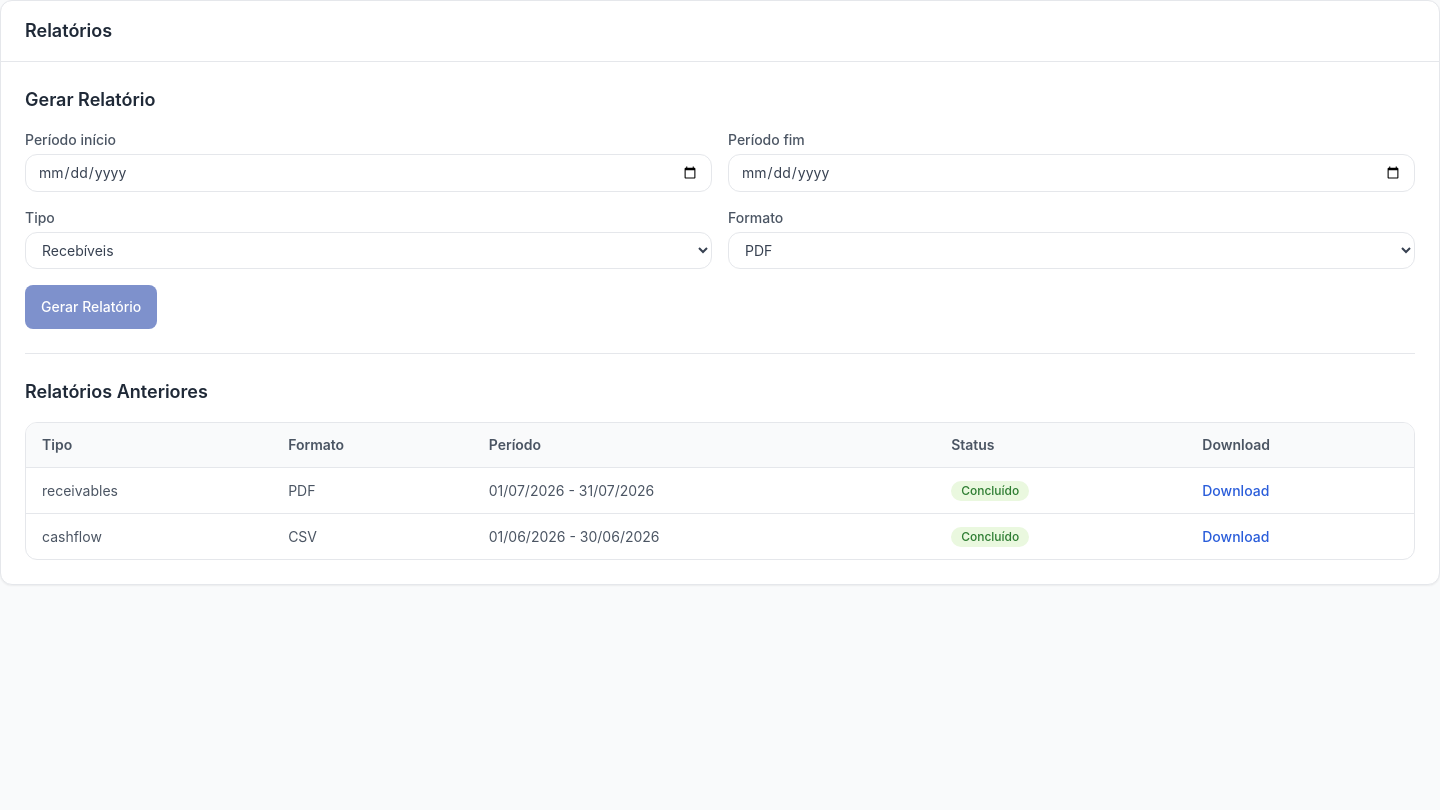
Test: ReportsPage › generates a report on submit
Expected: the button with test id "generate-report-btn" is shown, [25, 285, 157, 329]
Type "2026-07-01" into the date field with test id "report-period-start" at x=368, y=173, box [25, 154, 712, 192]
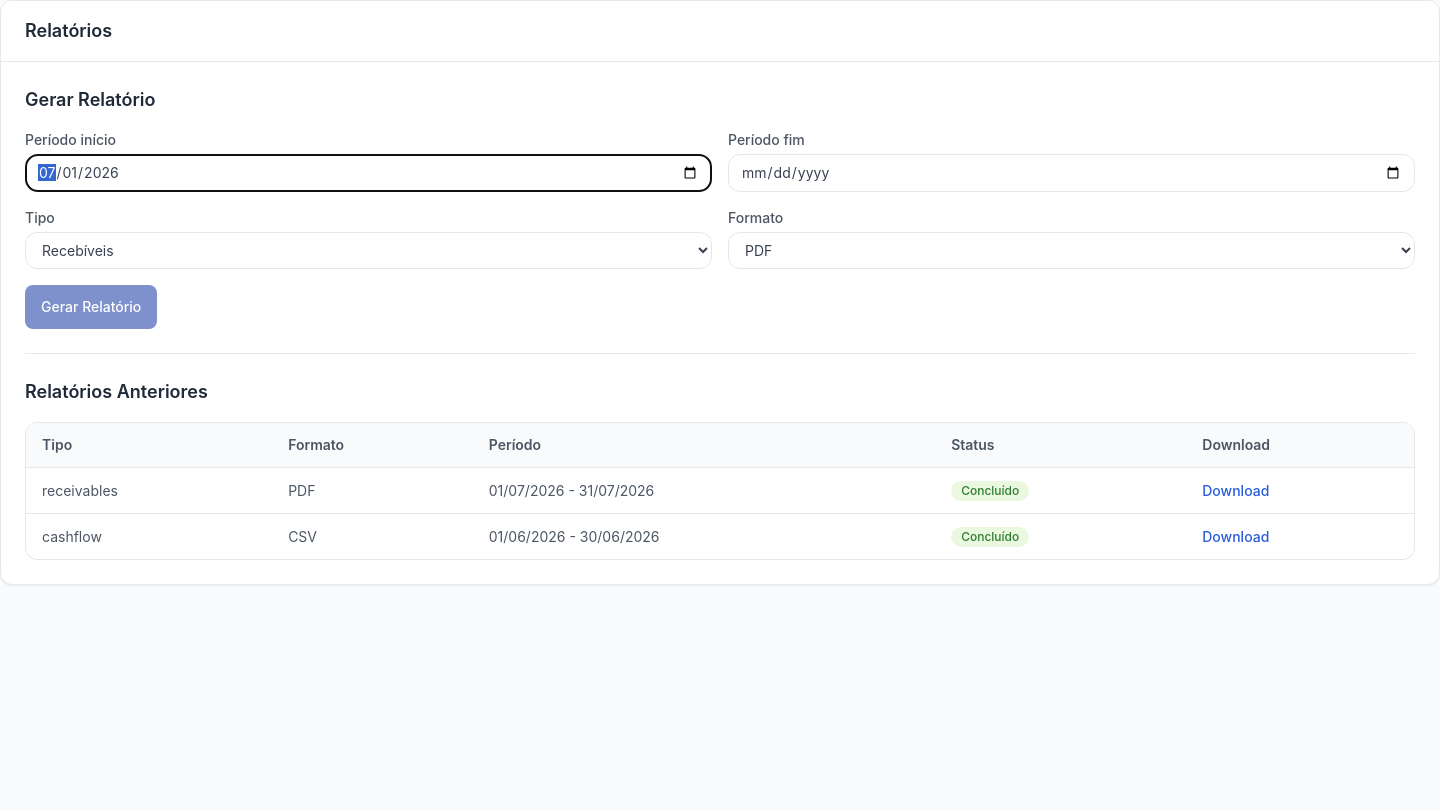
Type "2026-07-31" into the date field with test id "report-period-end" at x=1072, y=173, box [728, 154, 1415, 192]
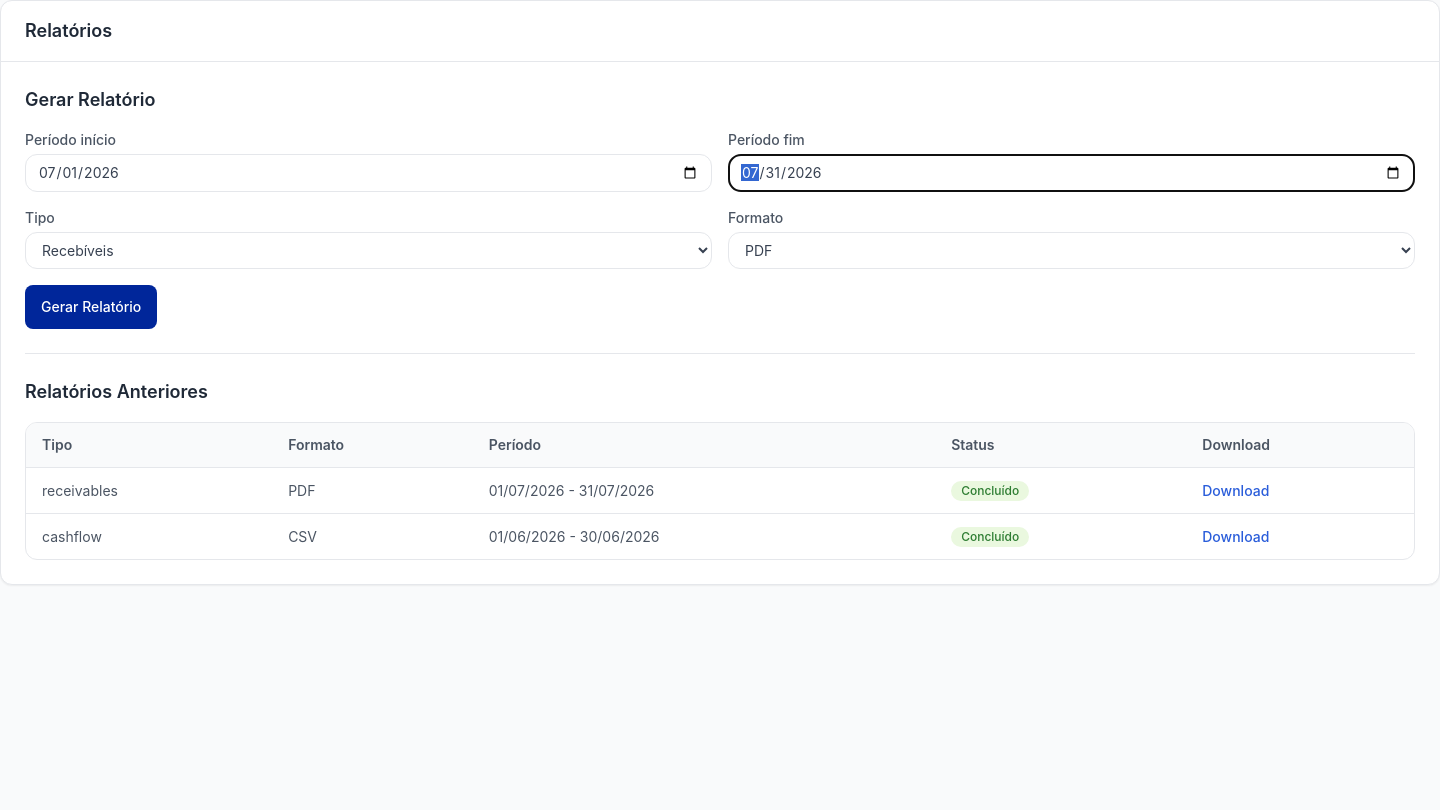
Click the button with test id "generate-report-btn" at x=91, y=307, box [25, 285, 157, 329]
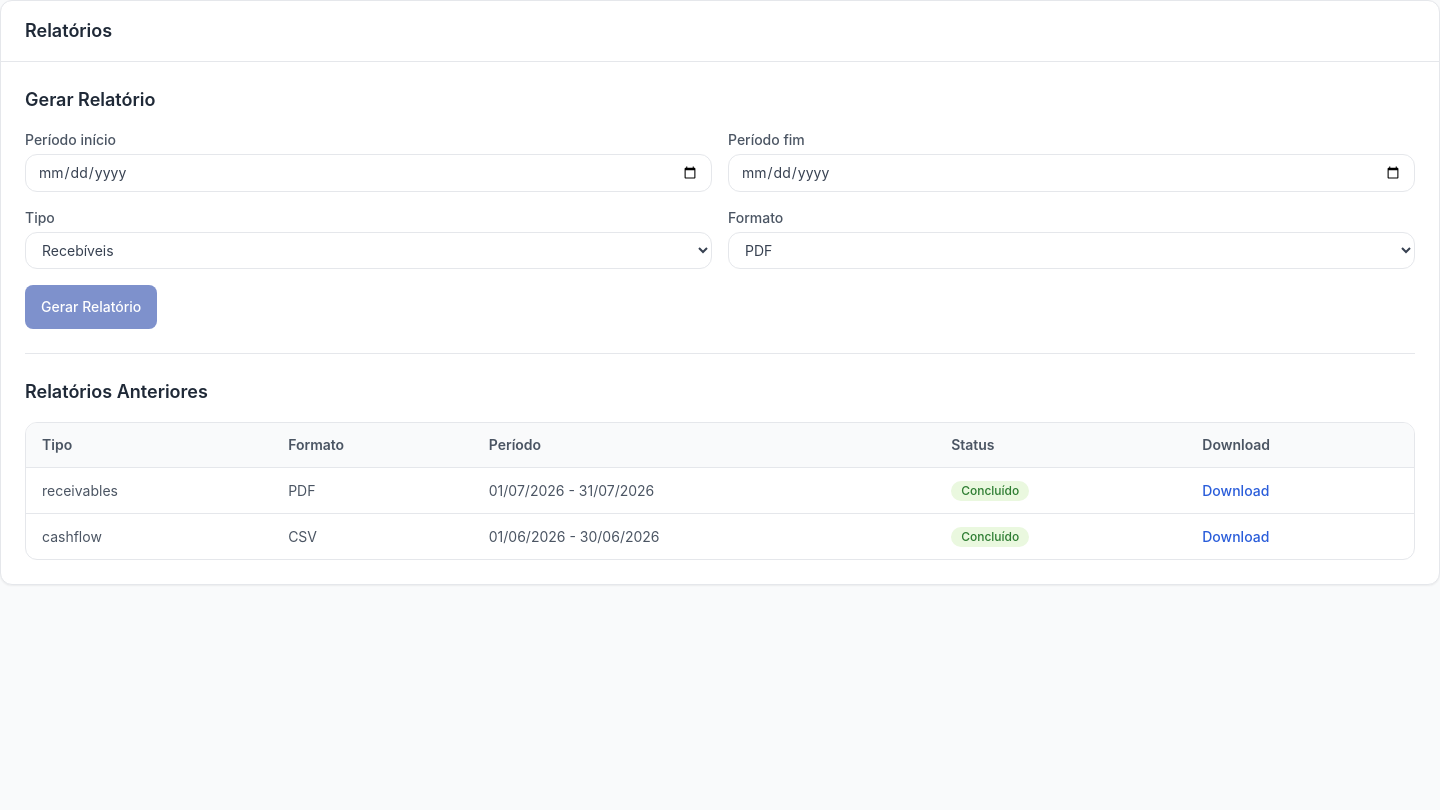
Result: the button with test id "generate-report-btn" is disabled at [25, 285, 157, 329]
